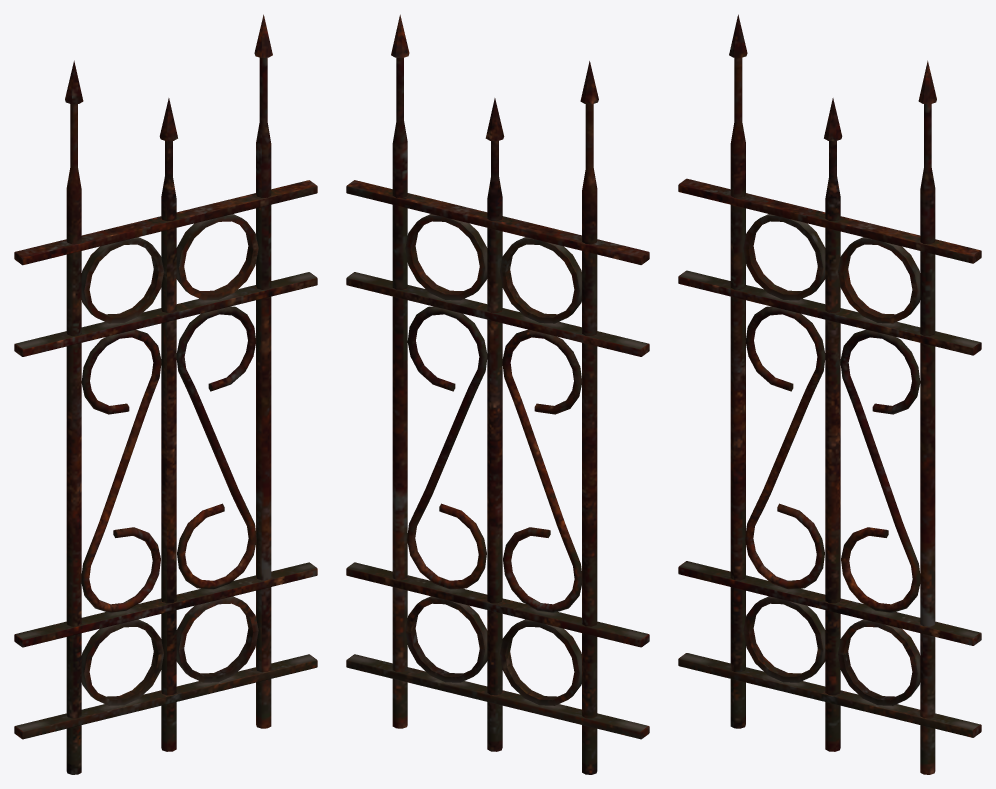
File: SM_fence_35.fbx
The picture shows the model from 3 angles, left to right: view 1: azimuth 30°, elevation 25°; view 2: azimuth 150°, elevation 25°; view 3: azimuth 330°, elevation 25°; orthographic projection.
Visible parts, largest first — view 1: SM_fence_35; view 2: SM_fence_35; view 3: SM_fence_35.
Part boxes in pixels (bbox=[...]): SM_fence_35: bbox=[14, 14, 317, 774]; SM_fence_35: bbox=[346, 14, 649, 774]; SM_fence_35: bbox=[678, 14, 981, 774].
Bounding box in the file's own units: 57.68 × 133 × 3.25.
